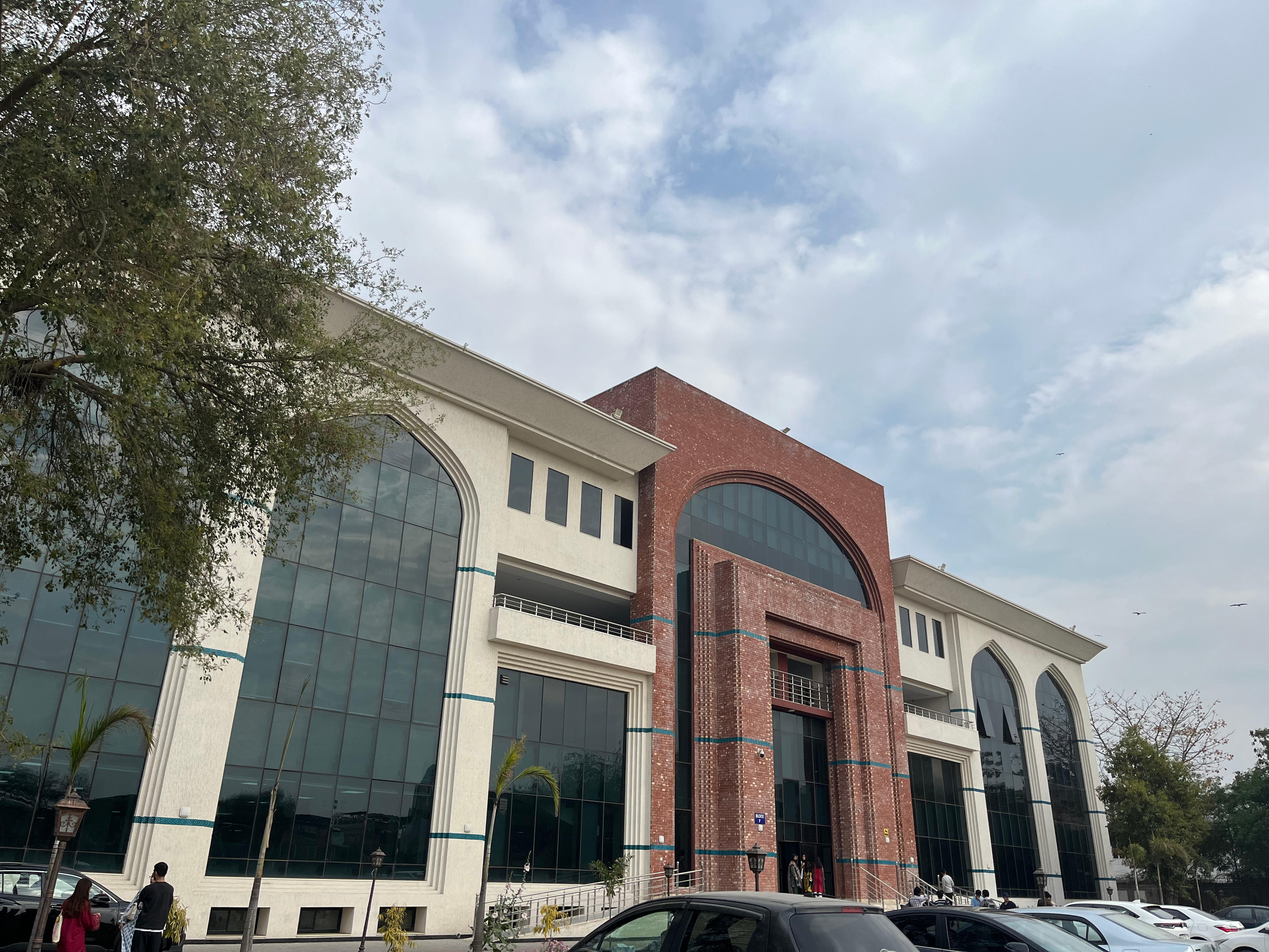Block F: (2, 128, 1127, 902)
